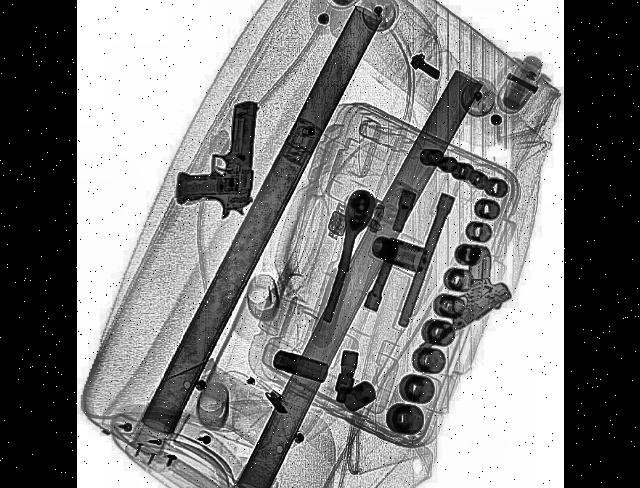Gun: (398, 238, 512, 358), (172, 90, 258, 226)
